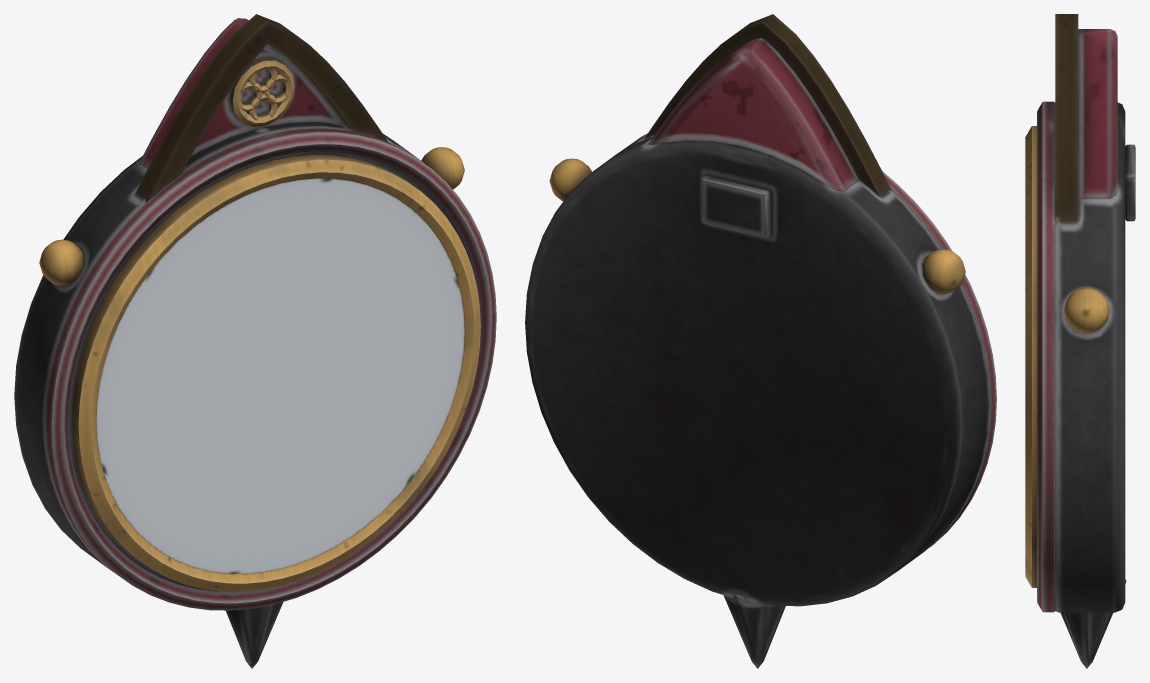
Rendered from WallClock.fbx.
The picture shows the model from 3 angles, left to right: view 1: azimuth 30°, elevation 25°; view 2: azimuth 150°, elevation 25°; view 3: azimuth 270°, elevation 25°; orthographic projection. The views are drawn at different scales.
Parts seen in each view (by area): view 1: WallClock_Glass, WallClock_Main; view 2: WallClock_Main; view 3: WallClock_Main.
Part boxes in pixels (box(x1,y1,x2,y2)): WallClock_Glass: box(96, 178, 464, 573); WallClock_Main: box(14, 14, 496, 668); WallClock_Main: box(525, 14, 996, 668); WallClock_Main: box(1025, 14, 1135, 668).
Size of the model in its own units: 200 by 282 by 43.
